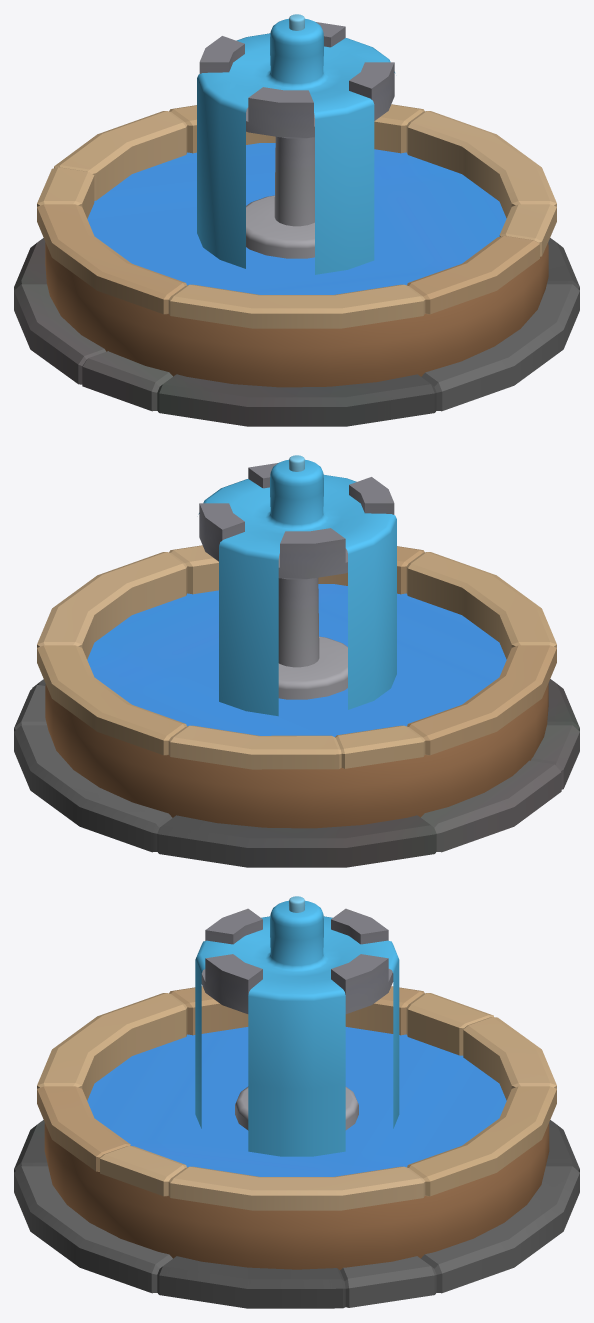
File: fountain.glb
3 views of the same model, one above another, from view 1: azimuth 30°, elevation 25°; view 2: azimuth 150°, elevation 25°; view 3: azimuth 270°, elevation 25° (orthographic).
Parts seen in each view (by area): view 1: foutain; view 2: foutain; view 3: foutain.
Part boxes in pixels (x1,y1,x2,y2): foutain: (14, 14, 579, 426); foutain: (14, 455, 579, 867); foutain: (14, 896, 579, 1308).
Size of the model in its own units: 1.97 by 1.13 by 1.99.
1 material, 1 textured.
